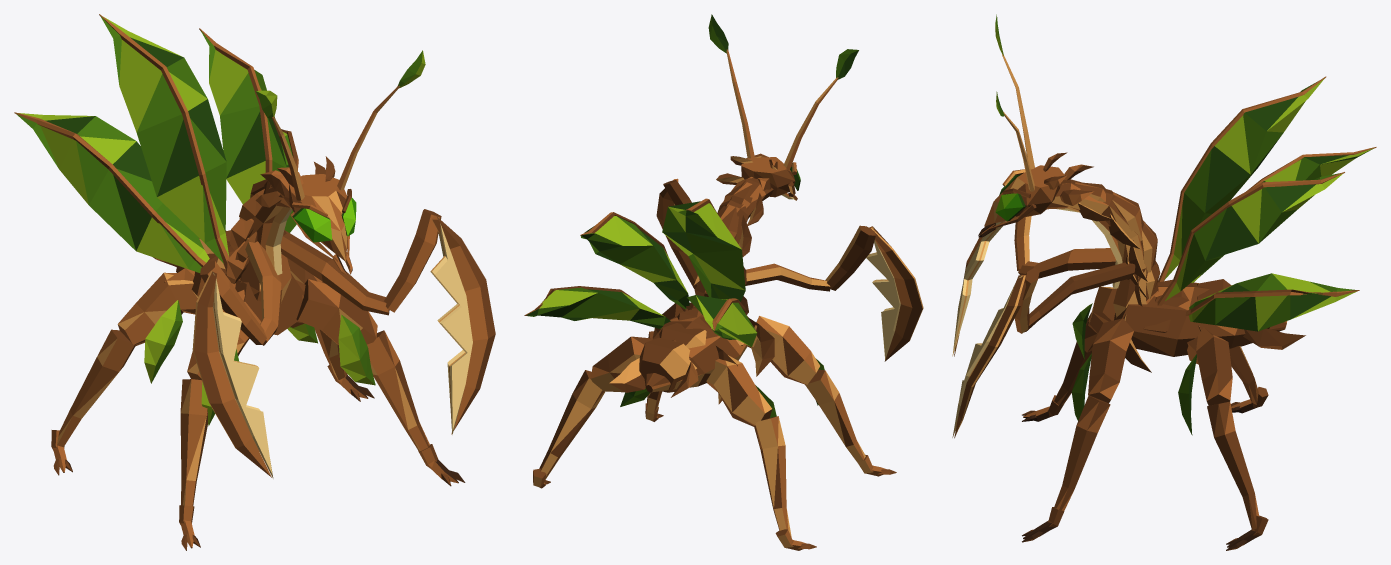
File: mantis-study-complete-proportion-study.glb
The picture shows the model from 3 angles, left to right: view 1: azimuth 30°, elevation 25°; view 2: azimuth 150°, elevation 25°; view 3: azimuth 270°, elevation 25°; orthographic projection. The views are drawn at different scales.
Visible parts, largest first — view 1: Leaf wing wing-1_0, Leaf wing wing-1_1, Leaf wing wing1_0, Swept bevelled wood sickle -1, Swept bevelled wood sickle 1, Bevelled continuous ivory teeth 1, Bevelled continuous ivory teeth -1, Walking tibia leg1_0, Walking femur leg1_0, Walking femur leg-1_1, Raptorial upper arm 1, Walking tibia leg-1_1 (+17 smaller); view 2: Leaf wing wing-1_0, Leaf wing wing1_0, Leaf wing wing1_1, Walking femur leg-1_1, Abdomen core, Walking tibia leg-1_1, Swept bevelled wood sickle -1, Walking tibia leg1_1, Walking femur leg-1_0, Walking tibia leg-1_0, Abdominal tergite 2, Leaf wing wing-1_1 (+12 smaller); view 3: Leaf wing wing-1_0, Leaf wing wing1_0, Leaf wing wing1_1, Abdomen core, Rising prothorax curved cervical arch, Walking femur leg1_0, Walking femur leg1_1, Walking tibia leg1_1, Walking tibia leg1_0, Raptorial upper arm 1, Swept bevelled wood sickle 1, Volumetric pointed insect skull (+20 smaller).
Part boxes in pixels (x1,y1,x2,y2): Leaf wing wing-1_0: (100,16,229,263); Leaf wing wing-1_1: (16,113,209,272); Leaf wing wing1_0: (201,31,286,204); Swept bevelled wood sickle -1: (192,270,271,477); Swept bevelled wood sickle 1: (431,215,495,434); Bevelled continuous ivory teeth 1: (430,217,472,434); Bevelled continuous ivory teeth -1: (212,271,273,478); Walking tibia leg1_0: (367,330,429,450); Walking femur leg1_0: (296,279,377,344); Walking femur leg-1_1: (117,272,197,346); Raptorial upper arm 1: (280,230,389,315); Walking tibia leg-1_1: (57,329,135,446); Leaf wing wing-1_0: (662,201,745,301); Leaf wing wing1_0: (581,216,689,309); Leaf wing wing1_1: (526,287,670,328); Walking femur leg-1_1: (706,355,772,426); Abdomen core: (644,306,748,392); Walking tibia leg-1_1: (754,416,791,537); Swept bevelled wood sickle -1: (869,226,923,361); Walking tibia leg1_1: (539,370,605,480); Walking femur leg-1_0: (747,316,819,384); Walking tibia leg-1_0: (804,369,865,461); Abdominal tergite 2: (639,337,696,392); Leaf wing wing-1_1: (687,295,757,346); Leaf wing wing-1_0: (1164,78,1324,279); Leaf wing wing1_0: (1165,173,1343,300); Leaf wing wing1_1: (1189,273,1356,331); Abdomen core: (1114,282,1287,356); Rising prothorax curved cervical arch: (1047,179,1158,317); Walking femur leg1_0: (1088,318,1133,403); Walking femur leg1_1: (1187,327,1232,405); Walking tibia leg1_1: (1207,401,1259,529); Walking tibia leg1_0: (1054,395,1110,510); Raptorial upper arm 1: (1024,262,1135,332); Swept bevelled wood sickle 1: (954,275,1026,438); Volumetric pointed insect skull: (984,165,1064,226).
Size of the model in its own units: 2.73 by 3.76 by 3.39.
